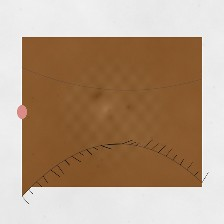pterygium_lesion: (21, 87, 83, 137)
